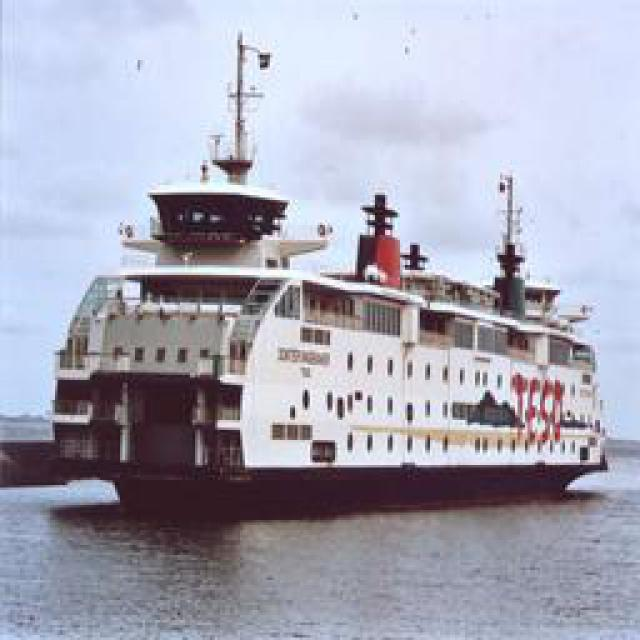Ship: (51, 114, 604, 499)
